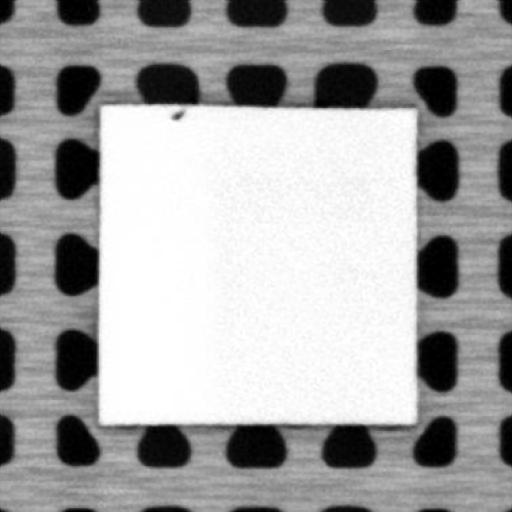DIE_INK: (167, 106, 187, 122)
